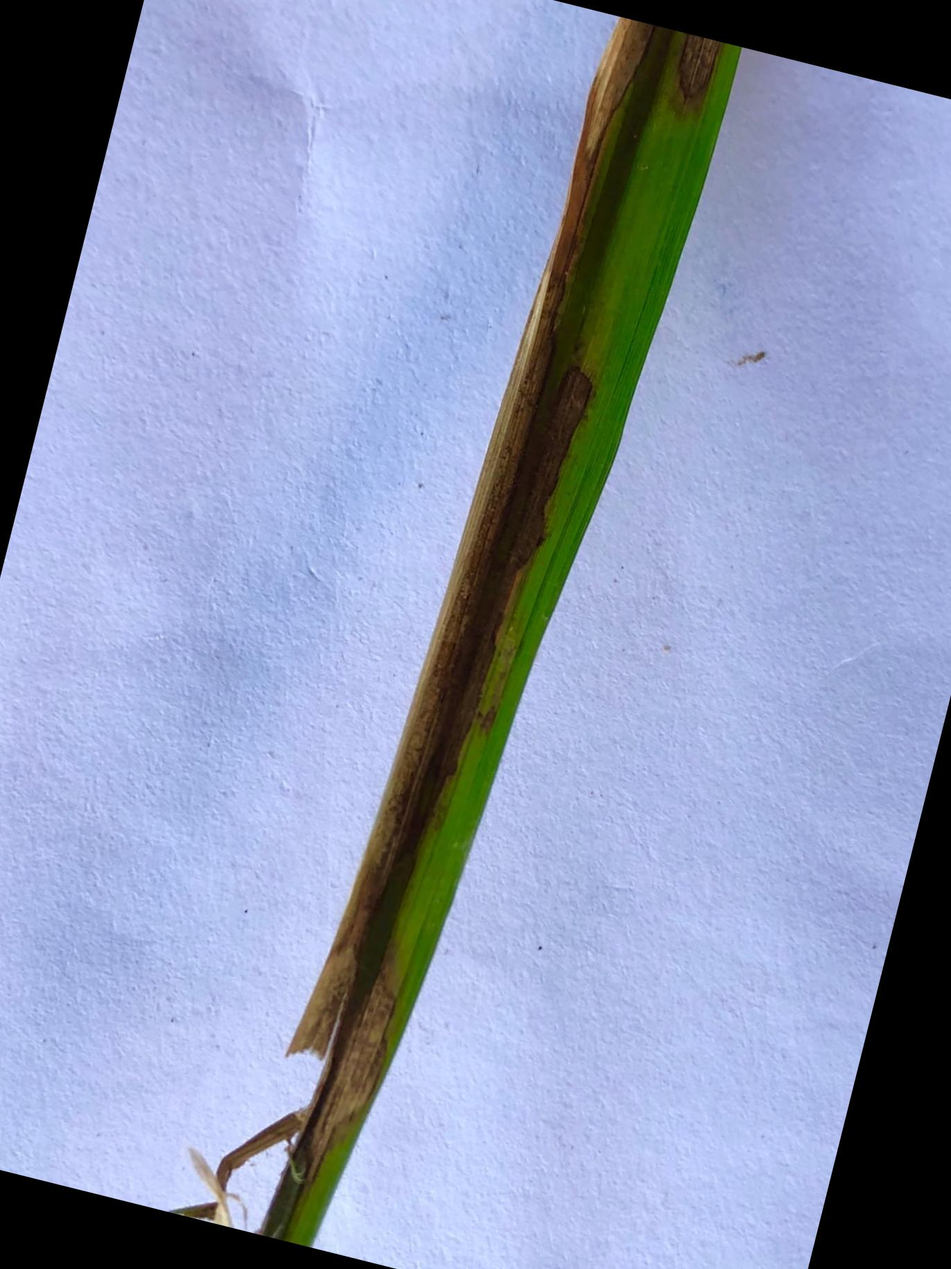Leaf Blight: (173, 17, 656, 1241)
